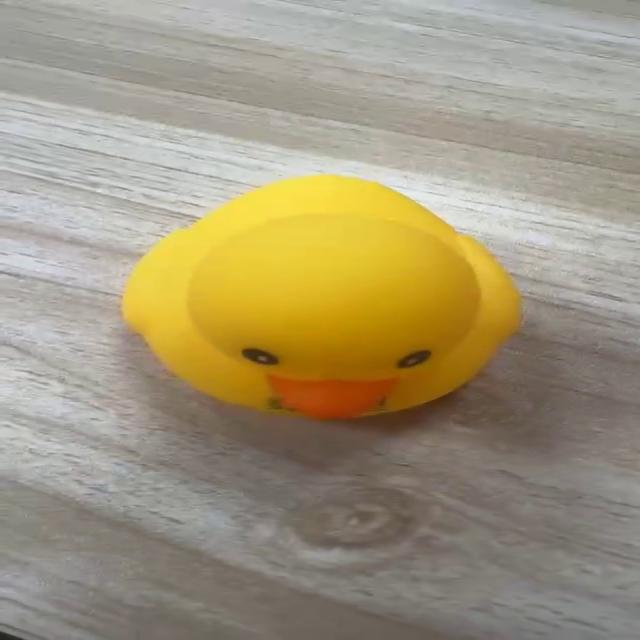yellow_duck: (118, 172, 524, 422)
